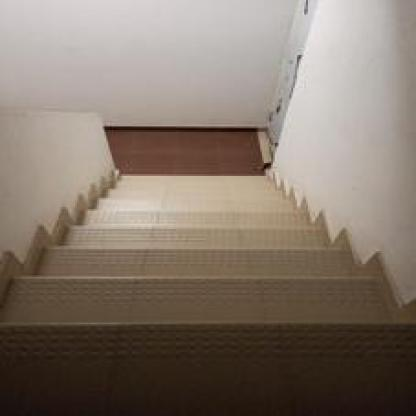stair_down: (60, 238, 320, 361)
